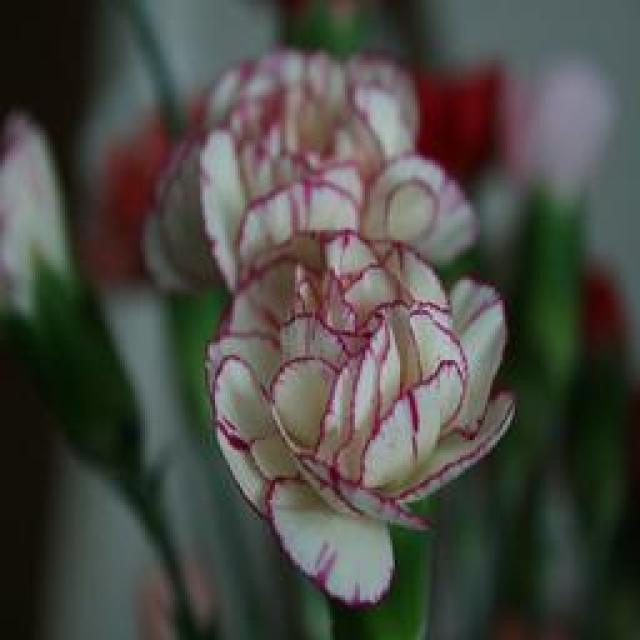carnation: (200, 225, 522, 587)
